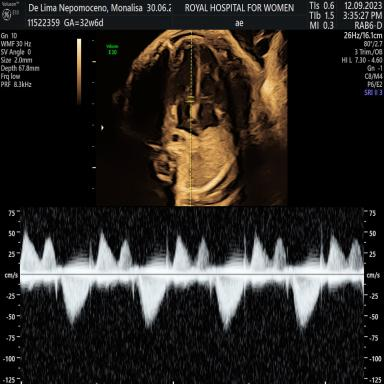Ultrasound-Waves: (25, 209, 360, 384)
